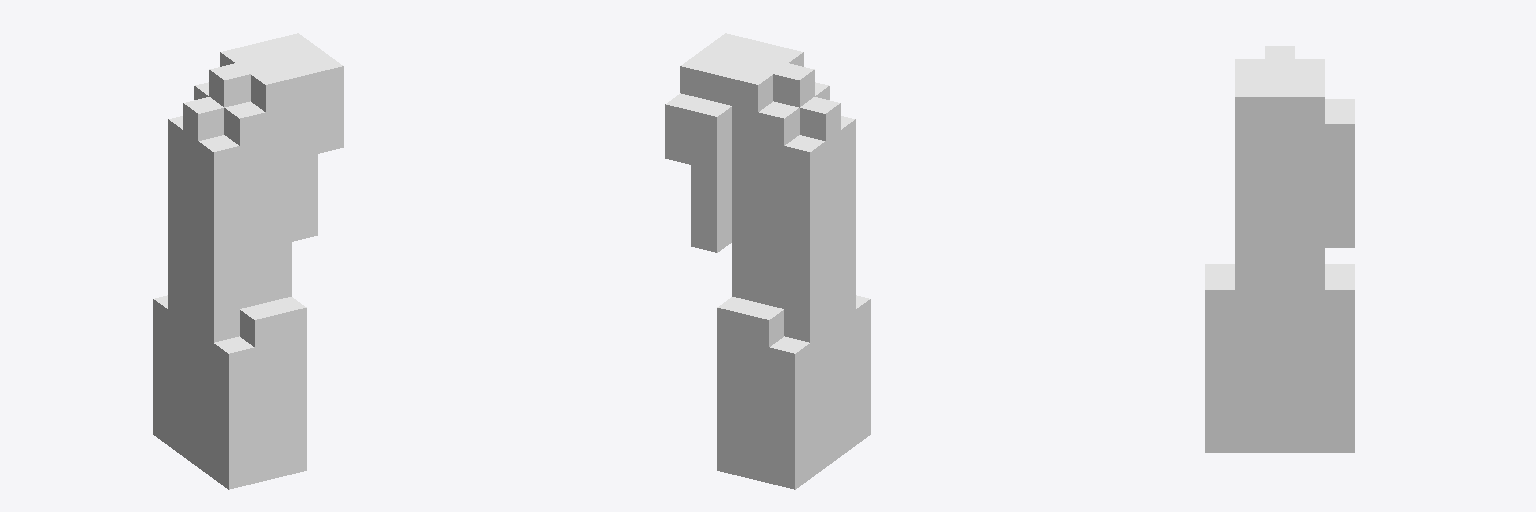
Rendered from anubis_voxB-5-armL.obj.
The picture shows the model from 3 angles: view 1: azimuth 30°, elevation 25°; view 2: azimuth 150°, elevation 25°; view 3: azimuth 270°, elevation 25°; orthographic projection.
Parts seen in each view (by area): view 1: armL; view 2: armL; view 3: armL.
Part boxes in pixels (x1,y1,x2,y2): armL: (153, 33, 343, 489); armL: (665, 33, 870, 489); armL: (1205, 46, 1354, 452).
Bounding box in the file's own units: 0.5 × 1.4 × 0.5.